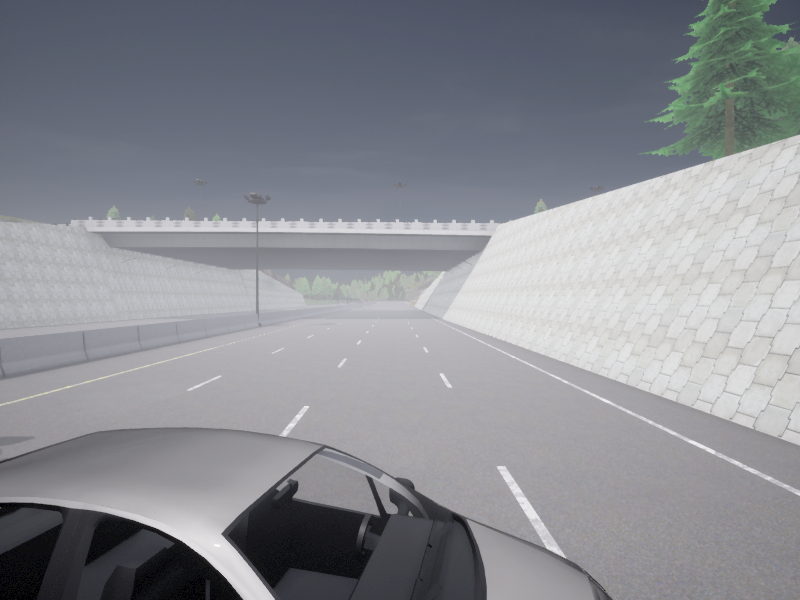vehicle: (0, 427, 612, 599)
